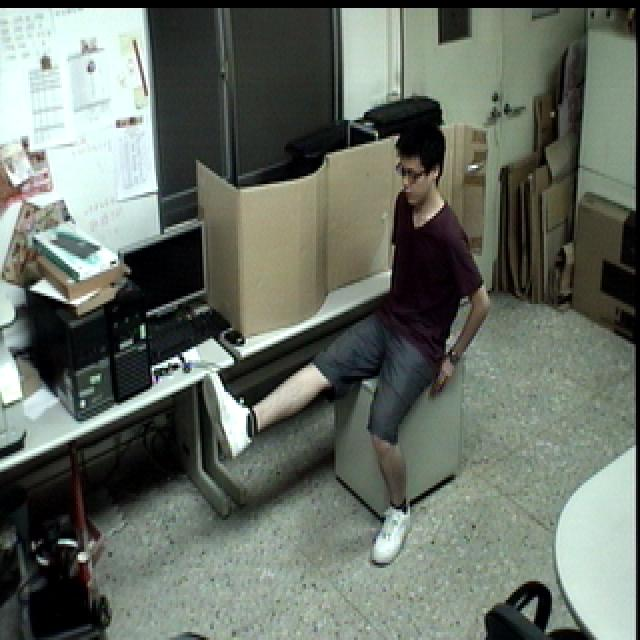sit: (195, 112, 494, 577)
